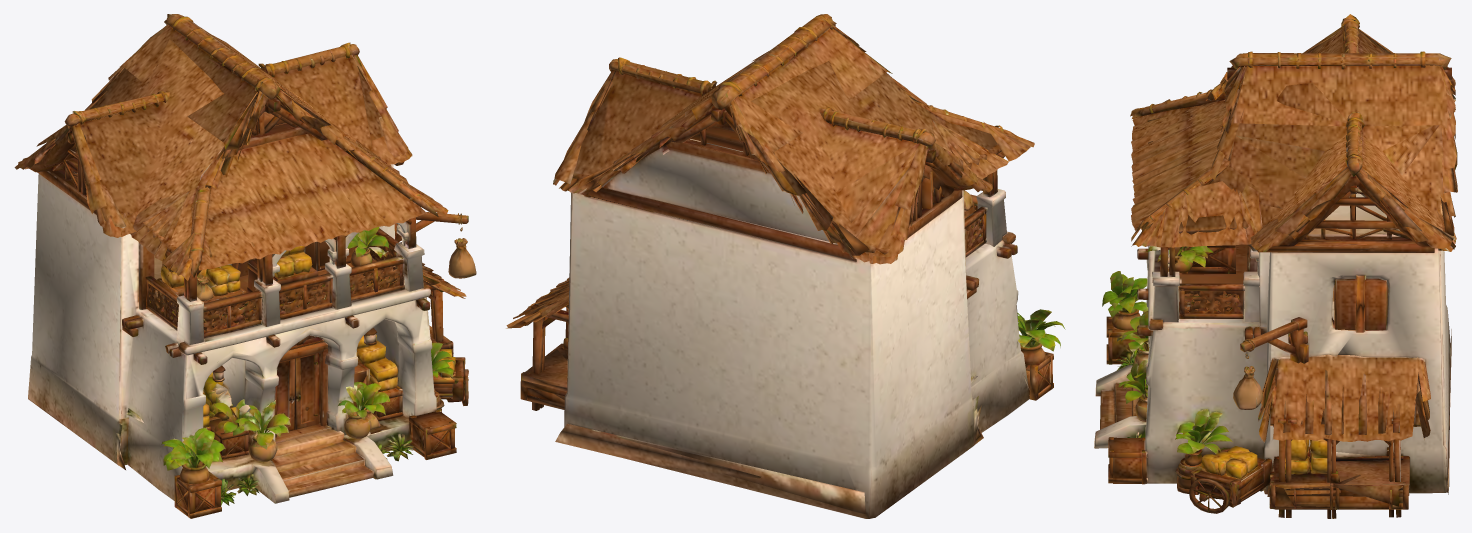
Rendered from suajili.glb.
3 views of the same model, side by side, from view 1: azimuth 30°, elevation 25°; view 2: azimuth 150°, elevation 25°; view 3: azimuth 270°, elevation 25° (orthographic). The views are drawn at different scales.
Size of the model in its own units: 0.9478 by 0.8794 by 0.7807.
1 material, 1 textured.
